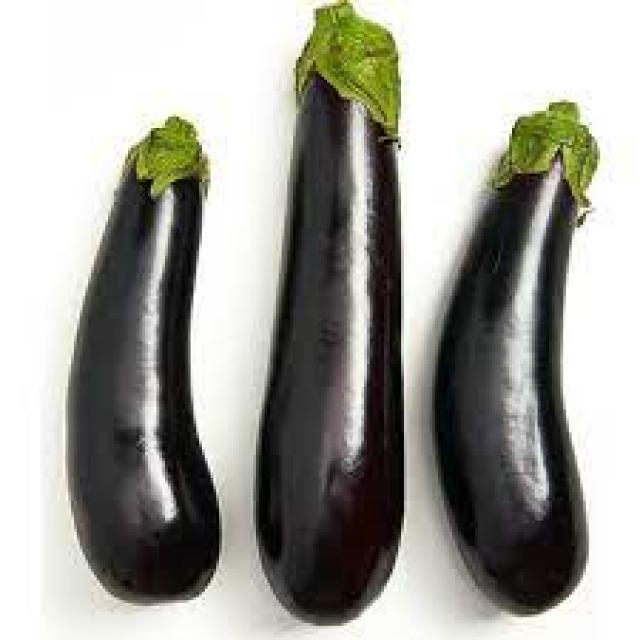eggplant: (257, 12, 414, 624), (435, 100, 600, 608), (65, 111, 219, 600)
